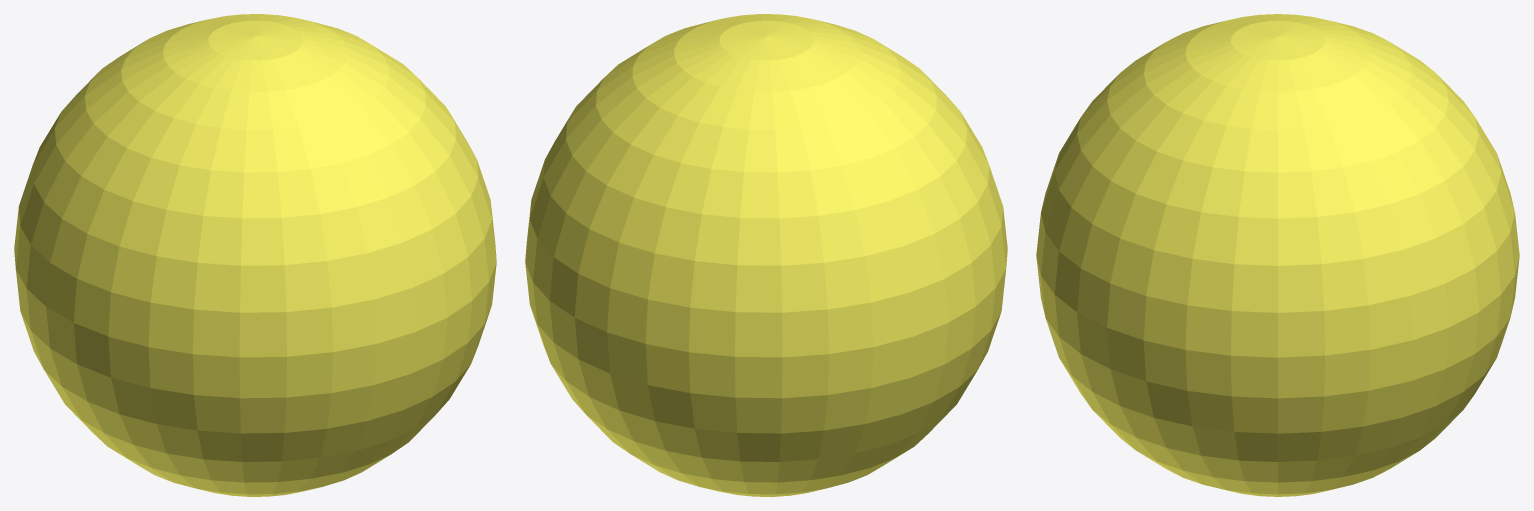
The model's file is LanternGlass.glb.
3 renders of one model, left to right at view 1: azimuth 30°, elevation 25°; view 2: azimuth 150°, elevation 25°; view 3: azimuth 270°, elevation 25°, orthographic.
Visible parts, largest first — view 1: Cylinder; view 2: Cylinder; view 3: Cylinder.
Boxes of the visible parts, <box> form: Cylinder: <box>14,14,496,496</box>; Cylinder: <box>525,14,1007,496</box>; Cylinder: <box>1036,14,1519,496</box>.
Size of the model in its own units: 2 by 1.98 by 2.
